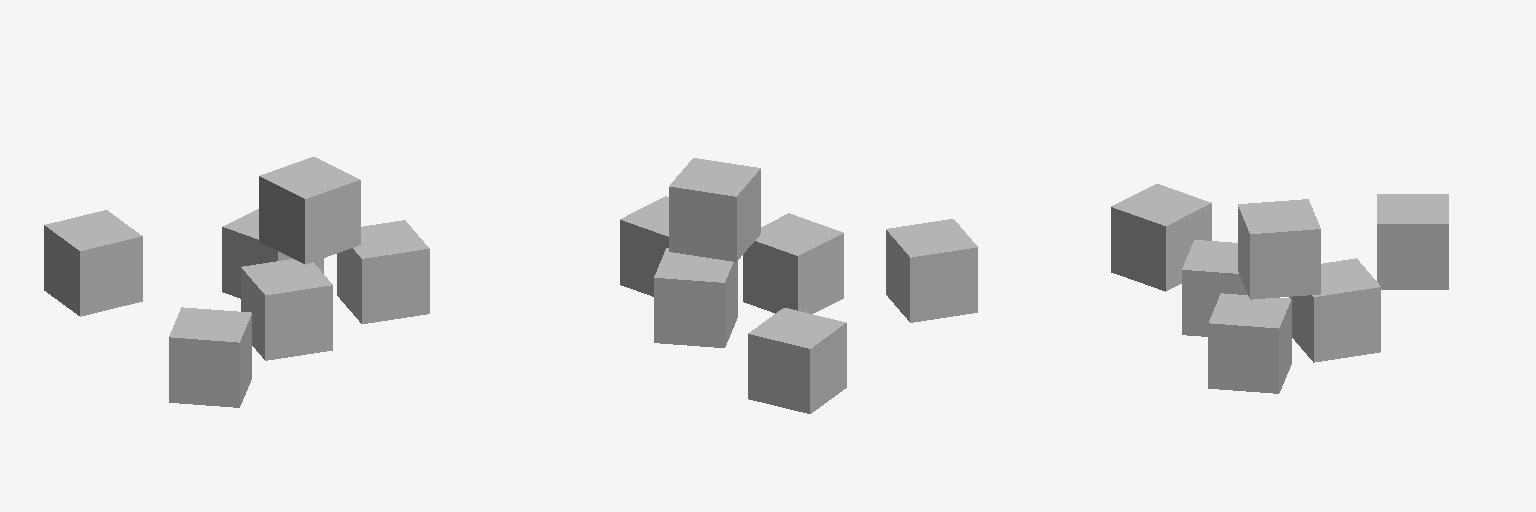
Rendered from cubos.obj.
The picture shows the model from 3 angles: view 1: azimuth 30°, elevation 25°; view 2: azimuth 150°, elevation 25°; view 3: azimuth 270°, elevation 25°; orthographic projection.
Visible parts, largest first — view 1: cubo_amarelo, cubo_laranja, cubo_azulinho, cubo_verde, cubo_azul, cubo_rosa; view 2: cubo_laranja, cubo_azulinho, cubo_azul, cubo_amarelo, cubo_rosa, cubo_verde; view 3: cubo_azul, cubo_verde, cubo_amarelo, cubo_rosa, cubo_laranja, cubo_azulinho.
Boxes of the visible parts, box(x1,y1,x2,y2) form: cubo_amarelo: box(259, 157, 360, 264); cubo_laranja: box(44, 210, 142, 316); cubo_azulinho: box(241, 259, 332, 360); cubo_verde: box(337, 220, 429, 323); cubo_azul: box(169, 307, 251, 407); cubo_rosa: box(222, 209, 323, 298); cubo_laranja: box(748, 308, 846, 413); cubo_azulinho: box(743, 213, 843, 313); cubo_azul: box(886, 219, 977, 322); cubo_amarelo: box(669, 158, 760, 261); cubo_rosa: box(654, 248, 737, 347); cubo_verde: box(620, 196, 668, 296); cubo_azul: box(1111, 184, 1211, 291); cubo_verde: box(1208, 293, 1291, 393); cubo_amarelo: box(1238, 199, 1320, 299); cubo_rosa: box(1289, 258, 1380, 362); cubo_laranja: box(1377, 194, 1448, 289); cubo_azulinho: box(1182, 240, 1247, 336).
Bounding box in the file's own units: 35.7 × 15 × 35.23.